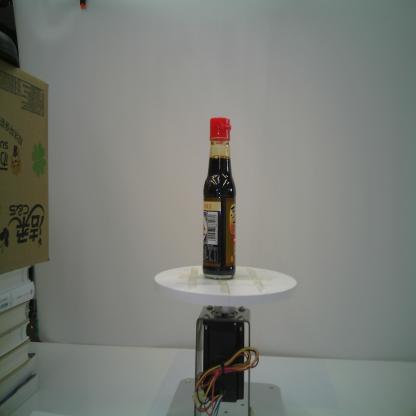Seasoner: (201, 117, 237, 282)
